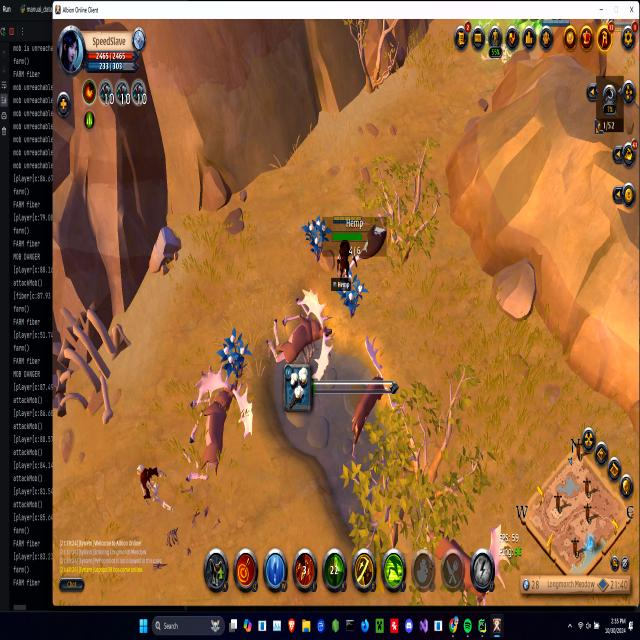hide: (218, 326, 249, 383), (338, 266, 365, 316), (304, 210, 329, 262)
mob: (186, 365, 252, 491), (263, 290, 338, 378), (356, 210, 392, 264)
ore: (419, 518, 512, 603), (344, 335, 403, 460), (132, 458, 176, 517)
red: (330, 214, 364, 294)
